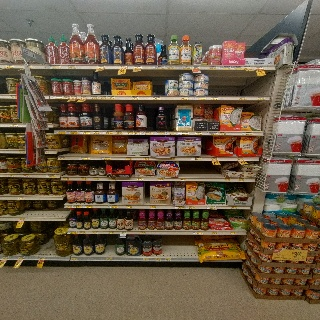All PRICE TAGS: (70, 130, 81, 134), (55, 130, 66, 134), (123, 205, 133, 209), (83, 130, 93, 134), (193, 231, 202, 235), (68, 230, 77, 234), (81, 156, 90, 160), (207, 131, 216, 135), (179, 131, 188, 135), (167, 131, 176, 135), (104, 130, 113, 134), (106, 95, 115, 99), (181, 65, 190, 69), (49, 65, 61, 68), (120, 65, 127, 70), (91, 231, 102, 234), (206, 206, 217, 209), (242, 132, 253, 135), (78, 230, 86, 234), (149, 205, 157, 209), (195, 131, 203, 135), (114, 130, 122, 134), (93, 130, 101, 134), (197, 96, 205, 100), (180, 96, 188, 100), (96, 95, 104, 99), (219, 65, 227, 69), (209, 65, 217, 69), (192, 65, 200, 69), (174, 206, 184, 209), (108, 205, 118, 208), (156, 131, 166, 134), (143, 131, 153, 134), (52, 95, 62, 98), (254, 66, 264, 69), (46, 174, 56, 177), (76, 204, 83, 208), (134, 131, 141, 135), (239, 96, 246, 100), (211, 96, 218, 100), (89, 95, 96, 99), (244, 65, 251, 69), (23, 174, 30, 178), (185, 206, 194, 209), (65, 204, 74, 207), (237, 158, 246, 161), (166, 157, 175, 160), (102, 157, 111, 160), (58, 156, 67, 159), (217, 132, 226, 135), (166, 65, 175, 68), (154, 65, 163, 68), (133, 65, 142, 68), (67, 65, 76, 68), (163, 258, 171, 261), (142, 258, 150, 261), (108, 231, 116, 234), (85, 205, 93, 208), (157, 178, 165, 181), (90, 178, 98, 181), (62, 177, 70, 180), (210, 157, 218, 160), (193, 157, 201, 160), (143, 157, 151, 160), (125, 157, 133, 160), (126, 131, 134, 134), (258, 96, 264, 100), (67, 95, 75, 98), (231, 66, 239, 69), (97, 65, 105, 68), (137, 177, 143, 181), (180, 177, 186, 181), (2, 256, 8, 260), (10, 124, 18, 127), (154, 258, 161, 261), (71, 257, 78, 260), (120, 231, 127, 234), (153, 96, 160, 99), (132, 96, 139, 99), (38, 257, 45, 260), (6, 65, 13, 68), (11, 95, 16, 99), (78, 96, 87, 98), (110, 177, 116, 180), (231, 206, 237, 209), (18, 257, 24, 260), (18, 197, 24, 200), (19, 218, 25, 221), (9, 174, 15, 177), (19, 150, 25, 153), (80, 178, 88, 180), (106, 258, 113, 260), (212, 232, 219, 234), (238, 179, 245, 181), (223, 179, 230, 181), (230, 232, 236, 234)
